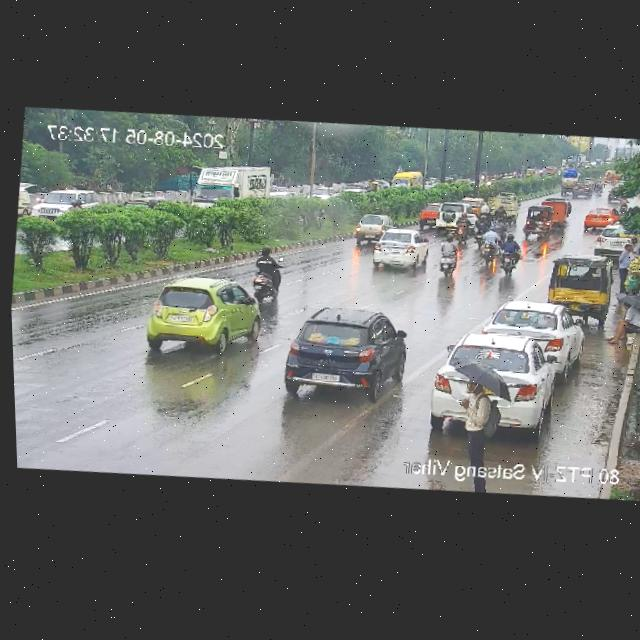car: (278, 299, 407, 403), (421, 332, 555, 430), (138, 276, 259, 357), (488, 295, 572, 383), (545, 255, 617, 304), (26, 184, 102, 226), (370, 228, 425, 274), (591, 221, 640, 257), (431, 201, 475, 236), (355, 213, 393, 246), (522, 203, 555, 239), (580, 205, 618, 234), (537, 195, 567, 229), (418, 198, 444, 226)
motorcycle: (243, 243, 285, 301), (475, 225, 503, 264), (439, 237, 464, 278), (495, 235, 520, 272), (494, 206, 509, 222)
person: (459, 371, 500, 466), (606, 292, 640, 347), (618, 241, 638, 293)
truck: (187, 158, 275, 220)
